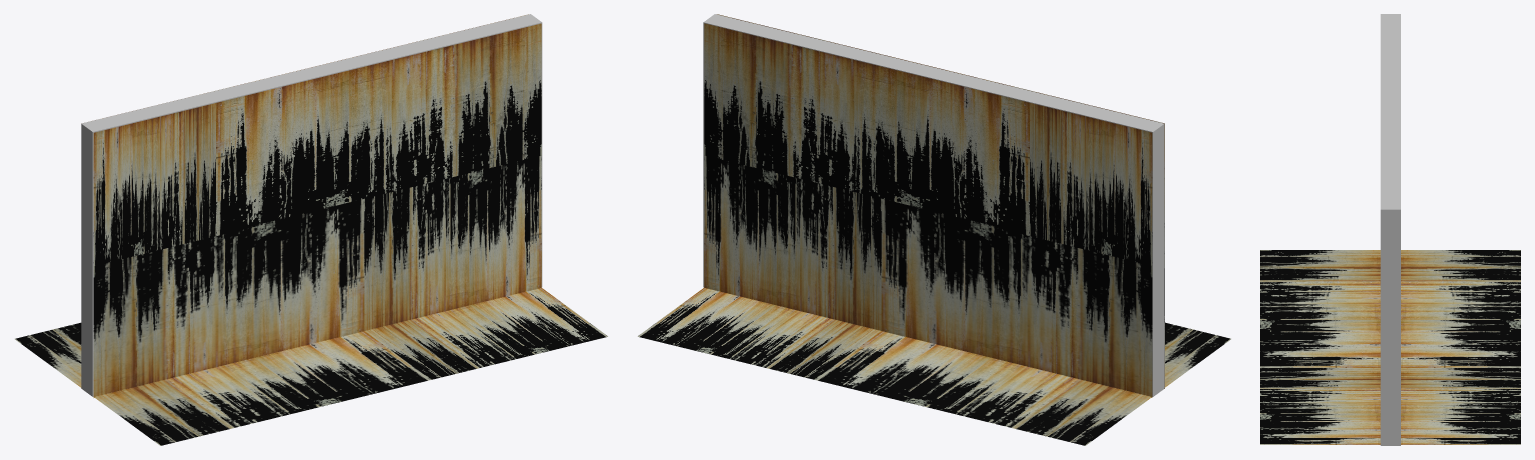
File: TiledBrick13.FBX
3 renders of one model, left to right at view 1: azimuth 30°, elevation 25°; view 2: azimuth 150°, elevation 25°; view 3: azimuth 270°, elevation 25°, orthographic. The views are drawn at different scales.
Visible parts, largest first — view 1: TiledBrick13; view 2: TiledBrick13; view 3: TiledBrick13.
Part boxes in pixels (left/top/right/bottom): TiledBrick13: left=15, top=14, right=607, bottom=445; TiledBrick13: left=637, top=14, right=1230, bottom=445; TiledBrick13: left=1260, top=14, right=1520, bottom=445.
Bounding box in the file's own units: 463 × 262 × 261.
